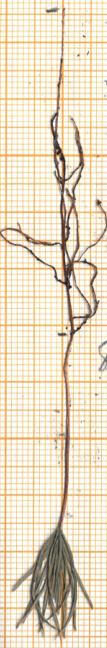flower: (13, 523, 100, 642)
root: (2, 10, 107, 337)
stem: (57, 342, 82, 528)
